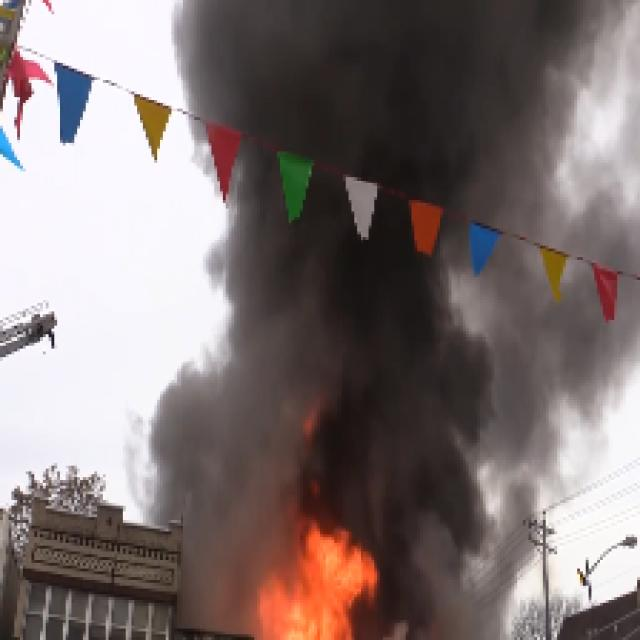fire: (246, 520, 374, 640)
smoke: (195, 5, 635, 508)
